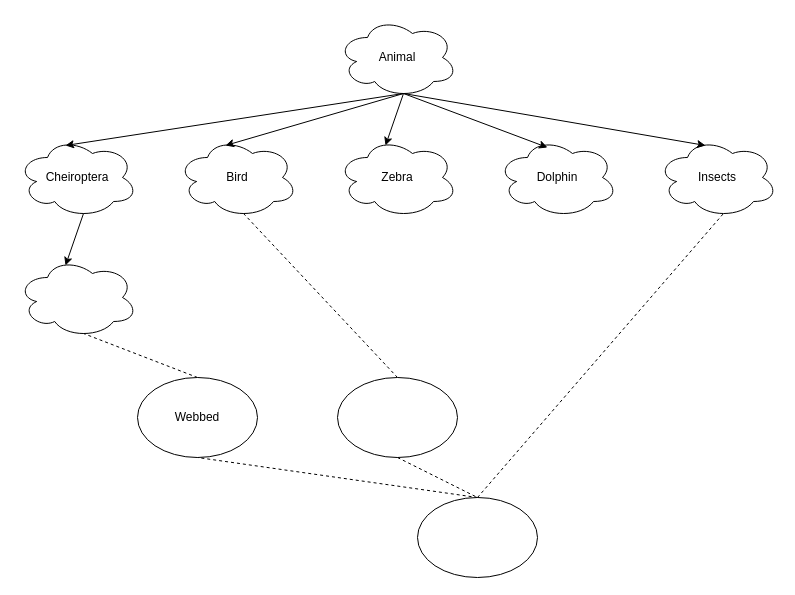
This 795x595 diagram has some shape labels left out. Here are the shapes that lost their labels. From the top down, the centre of each, then its label:
At [77,297]: "Bat".
At [397,417]: "Feather".
At [477,537]: "Wings".
